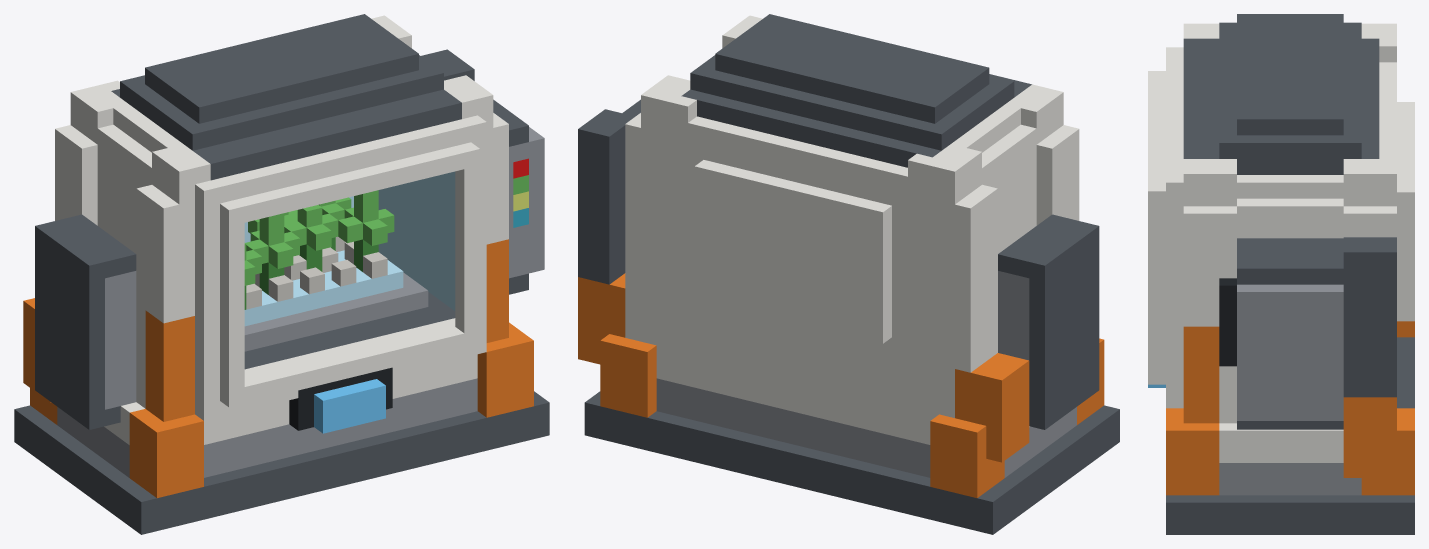
Rendered from hydroponic_pods.obj.
3 renders of one model, left to right at view 1: azimuth 30°, elevation 25°; view 2: azimuth 150°, elevation 25°; view 3: azimuth 270°, elevation 25°, orthographic.
Size of the model in its own units: 2.9 by 2.3 by 1.5.
1 material, 1 textured.
